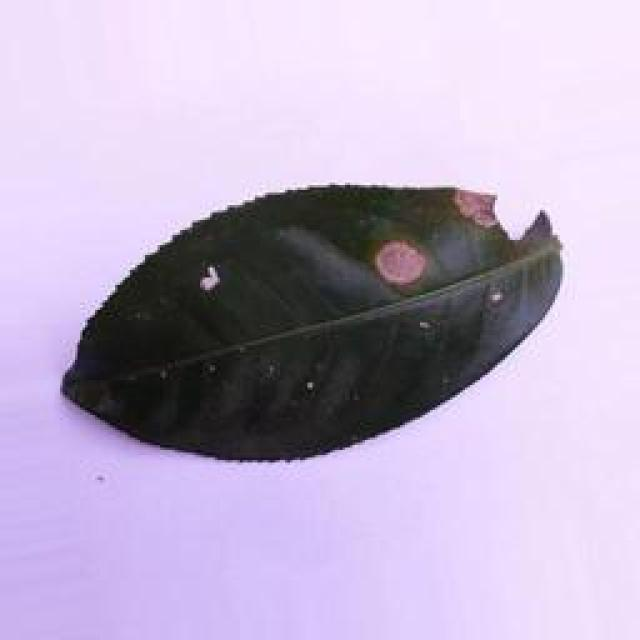Gray Blight: (58, 181, 567, 470)
